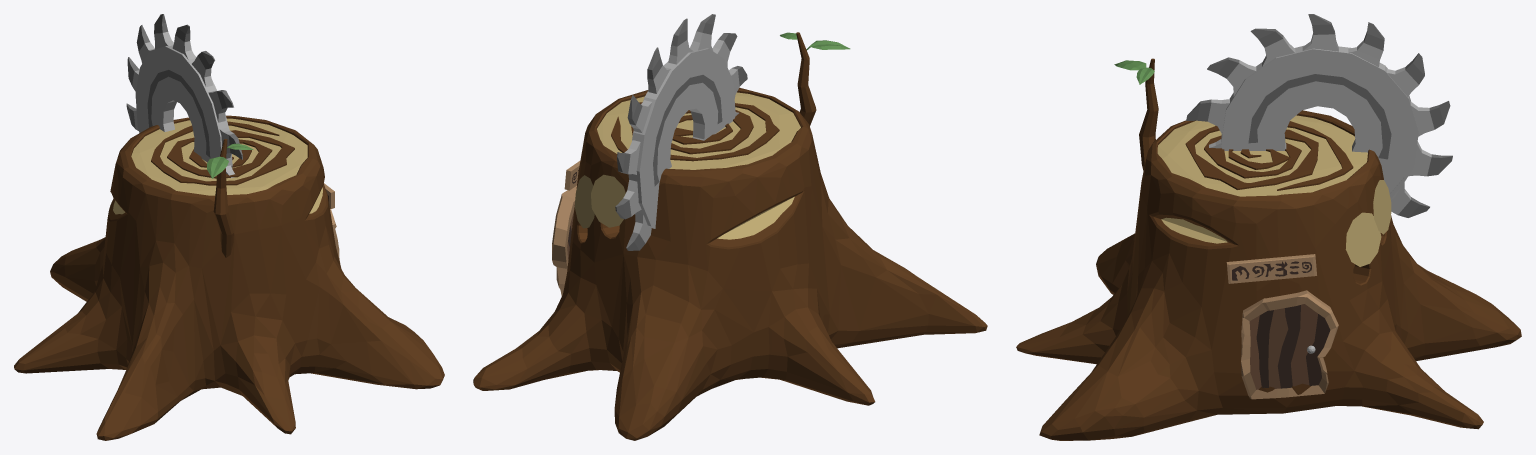
The model's file is CarpentryFixed.glb.
The picture shows the model from 3 angles, left to right: view 1: azimuth 30°, elevation 25°; view 2: azimuth 150°, elevation 25°; view 3: azimuth 270°, elevation 25°; orthographic projection. The views are drawn at different scales.
Visible parts, largest first — view 1: stomp, blade.001, Cylinder.002; view 2: stomp, blade.001, tuer, stomp.003, Cylinder.002, stomp.002; view 3: stomp, blade.001, tuer, Plane, stomp.002, Cylinder.002, stomp.003.
Boxes of the visible parts, x1,y1,x2,y2 form: stomp: (14, 115, 444, 440); blade.001: (126, 14, 242, 178); Cylinder.002: (213, 139, 233, 257); stomp: (473, 87, 987, 440); blade.001: (615, 14, 747, 250); tuer: (552, 185, 576, 296); stomp.003: (591, 174, 625, 227); Cylinder.002: (796, 32, 816, 126); stomp.002: (574, 175, 594, 228); stomp: (1016, 110, 1521, 440); blade.001: (1186, 14, 1452, 217); tuer: (1241, 290, 1338, 399); Plane: (1226, 254, 1316, 283); stomp.002: (1345, 212, 1381, 266); Cylinder.002: (1139, 58, 1158, 170); stomp.003: (1373, 180, 1391, 234).
Size of the model in its own units: 22.24 by 20.39 by 26.17.
